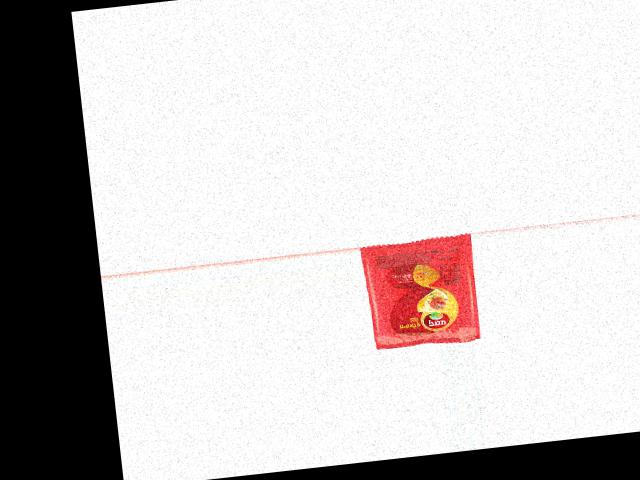cheese: (363, 232, 483, 350)
